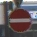No entry: (6, 6, 31, 32)
